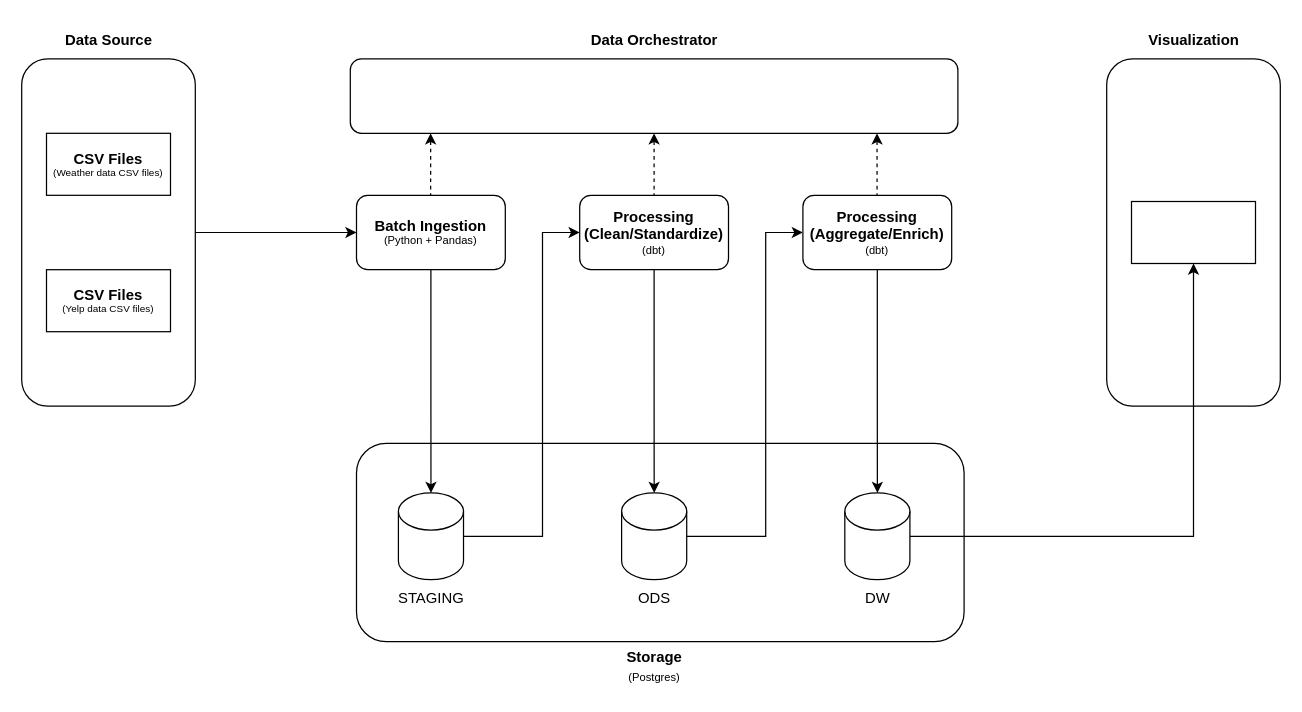
This 1302x712 diagram has some shape labels left out. Each missing label, with the centre of its shape:
Dashboards (Metabase): point (1193, 232)
Workflow Manager (Airflow): point (653, 95)
